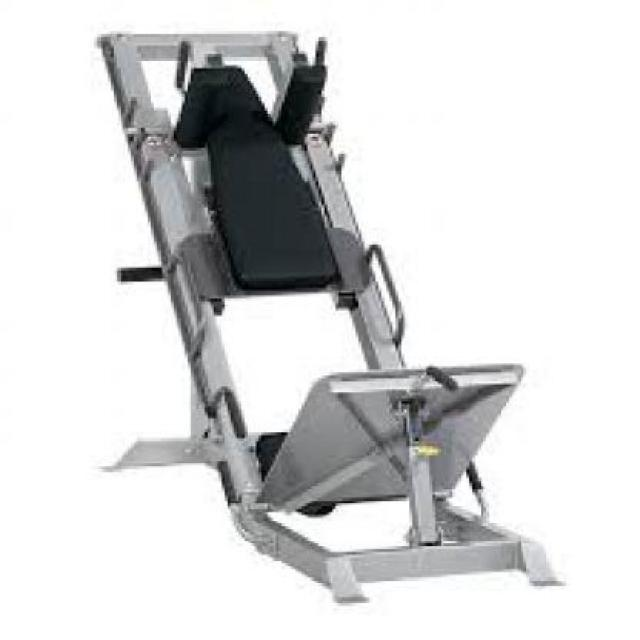leg press: (89, 12, 571, 618)
